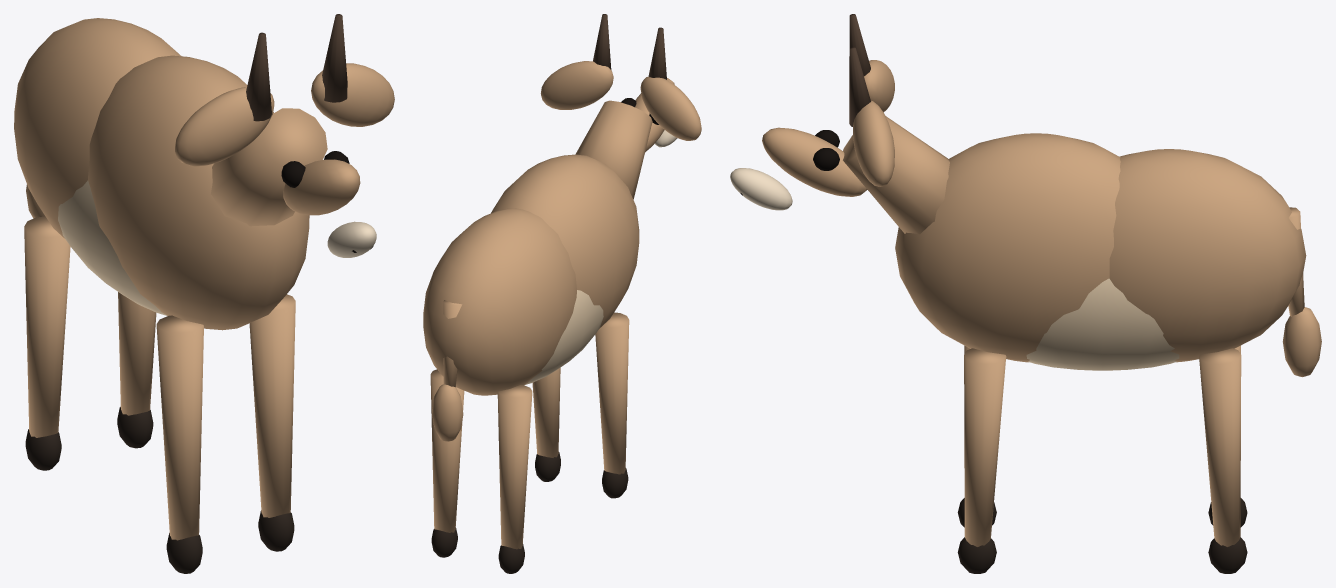
Rendered from goat.glb.
3 views of the same model, side by side, from view 1: azimuth 30°, elevation 25°; view 2: azimuth 150°, elevation 25°; view 3: azimuth 270°, elevation 25° (orthographic). The views are drawn at different scales.
Visible parts, largest first — view 1: goat; view 2: goat; view 3: goat.
Part boxes in pixels (x1,y1,x2,y2): goat: (14,14,394,573); goat: (423,14,701,573); goat: (730,14,1321,573).
Size of the model in its own units: 0.5694 by 1.47 by 1.51.
